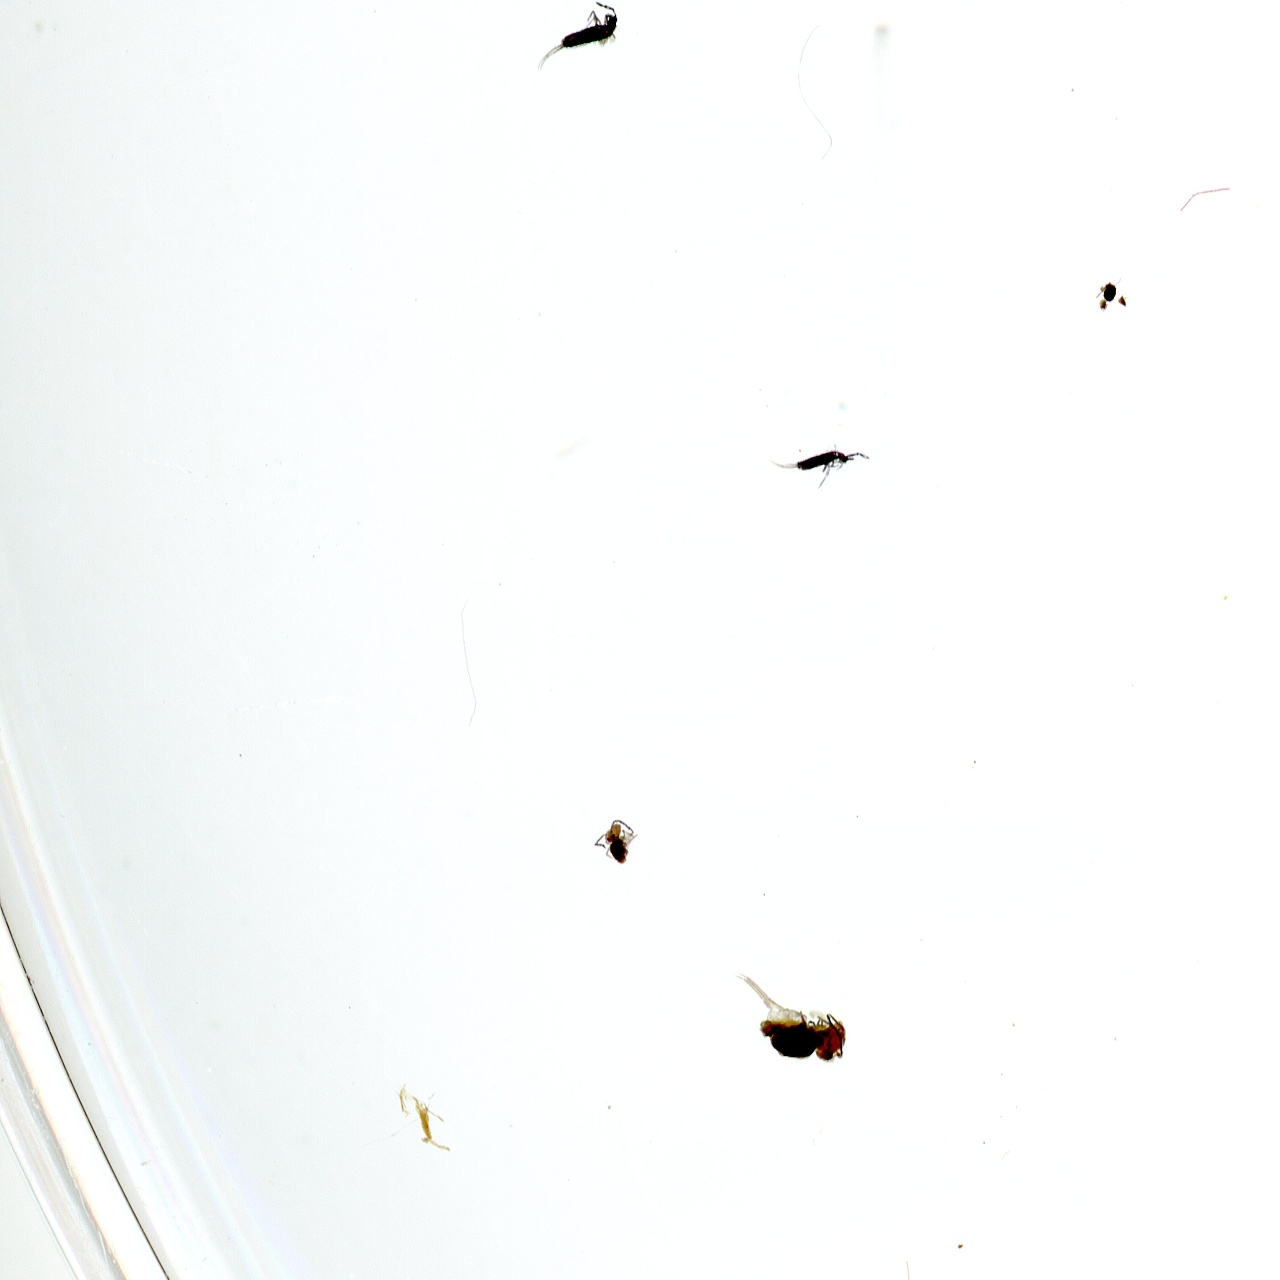arthropod: (731, 967, 850, 1064), (532, 0, 622, 73), (763, 441, 876, 492), (590, 816, 642, 866)
